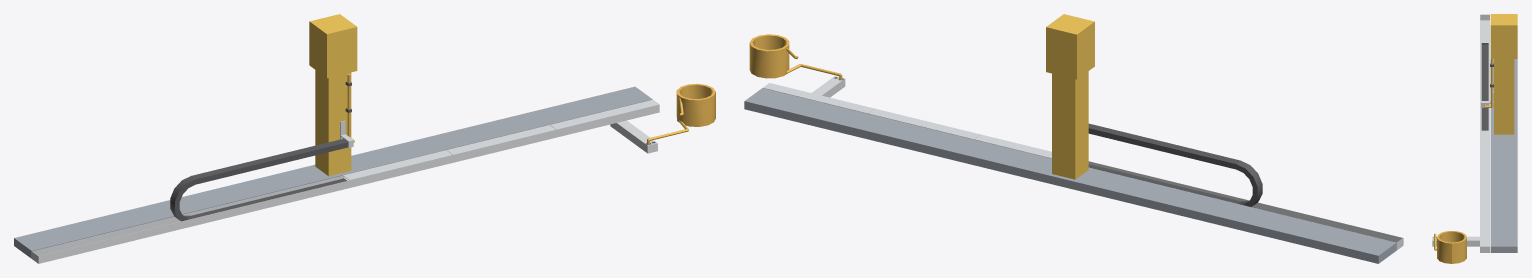
The model's file is modul_R.glb.
The picture shows the model from 3 angles, left to right: view 1: azimuth 30°, elevation 25°; view 2: azimuth 150°, elevation 25°; view 3: azimuth 270°, elevation 25°; orthographic projection. The views are drawn at different scales.
Parts seen in each view (by area): view 1: ROBOT_RAY, ROBOT_ZINCIR_OLUGU__paslanmaz, ROBOT_1, ROBOT_ENERJI_ZINCIRI__zincir, ROBOT_1_KOL, ROBOT_KABLOSU__kablo, ZEMIN_KANALI__paslanmaz; view 2: ROBOT_RAY, ROBOT_ZINCIR_OLUGU__paslanmaz, ROBOT_1, ROBOT_ENERJI_ZINCIRI__zincir, ROBOT_1_KOL, ROBOT_KABLOSU__kablo, ZEMIN_KANALI__paslanmaz; view 3: ROBOT_RAY, ROBOT_ZINCIR_OLUGU__paslanmaz, ROBOT_1, ROBOT_1_KOL, ROBOT_KABLOSU__kablo, ROBOT_ENERJI_ZINCIRI__zincir, ZEMIN_KANALI__paslanmaz, ROBOT_ENERJI_ZINCIRI__celik.
Boxes of the visible parts, left/top/right/bottom form: ROBOT_RAY: left=14, top=86, right=652, bottom=258; ROBOT_ZINCIR_OLUGU__paslanmaz: left=32, top=99, right=659, bottom=263; ROBOT_1: left=315, top=70, right=351, bottom=176; ROBOT_ENERJI_ZINCIRI__zincir: left=170, top=138, right=348, bottom=221; ROBOT_1_KOL: left=309, top=14, right=357, bottom=78; ROBOT_KABLOSU__kablo: left=347, top=74, right=715, bottom=144; ZEMIN_KANALI__paslanmaz: left=610, top=120, right=657, bottom=153; ROBOT_RAY: left=744, top=88, right=1396, bottom=263; ROBOT_ZINCIR_OLUGU__paslanmaz: left=763, top=83, right=1403, bottom=250; ROBOT_1: left=1052, top=71, right=1088, bottom=179; ROBOT_ENERJI_ZINCIRI__zincir: left=1088, top=123, right=1262, bottom=206; ROBOT_1_KOL: left=1046, top=14, right=1094, bottom=79; ROBOT_KABLOSU__kablo: left=749, top=34, right=842, bottom=80; ZEMIN_KANALI__paslanmaz: left=812, top=76, right=845, bottom=97; ROBOT_RAY: left=1490, top=59, right=1517, bottom=252; ROBOT_ZINCIR_OLUGU__paslanmaz: left=1480, top=14, right=1489, bottom=252; ROBOT_1: left=1494, top=59, right=1514, bottom=134; ROBOT_1_KOL: left=1490, top=14, right=1517, bottom=58; ROBOT_KABLOSU__kablo: left=1434, top=59, right=1492, bottom=263; ROBOT_ENERJI_ZINCIRI__zincir: left=1481, top=43, right=1488, bottom=130; ZEMIN_KANALI__paslanmaz: left=1432, top=236, right=1479, bottom=246; ROBOT_ENERJI_ZINCIRI__celik: left=1481, top=91, right=1493, bottom=107.
Bounding box in the file's own units: 5.18 × 1.21 × 0.76.
